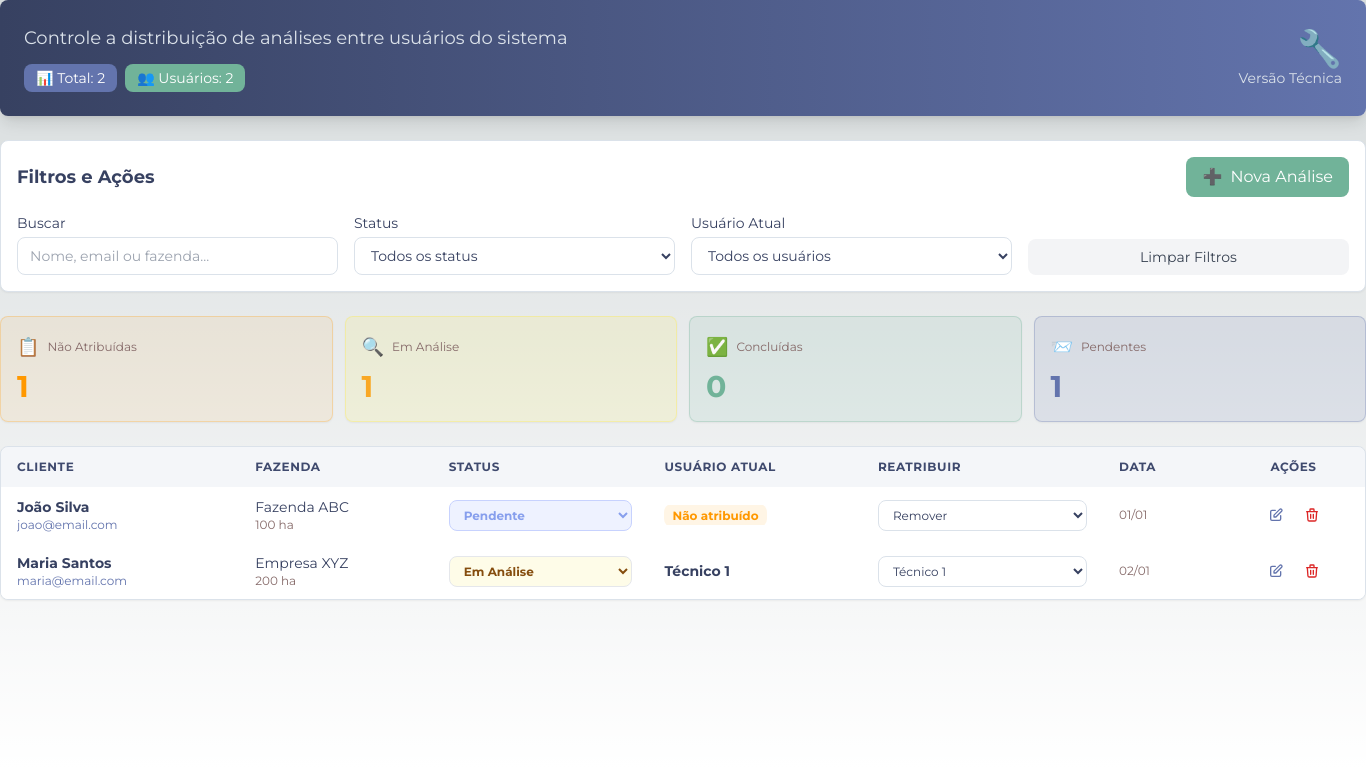
it: AnalisesTecnicasManager › deve filtrar análises por usuário
Select "Técnico 1" in the 2nd dropdown showing "Todos os usuários". click: [852, 256]
box: [691,237,1012,275]
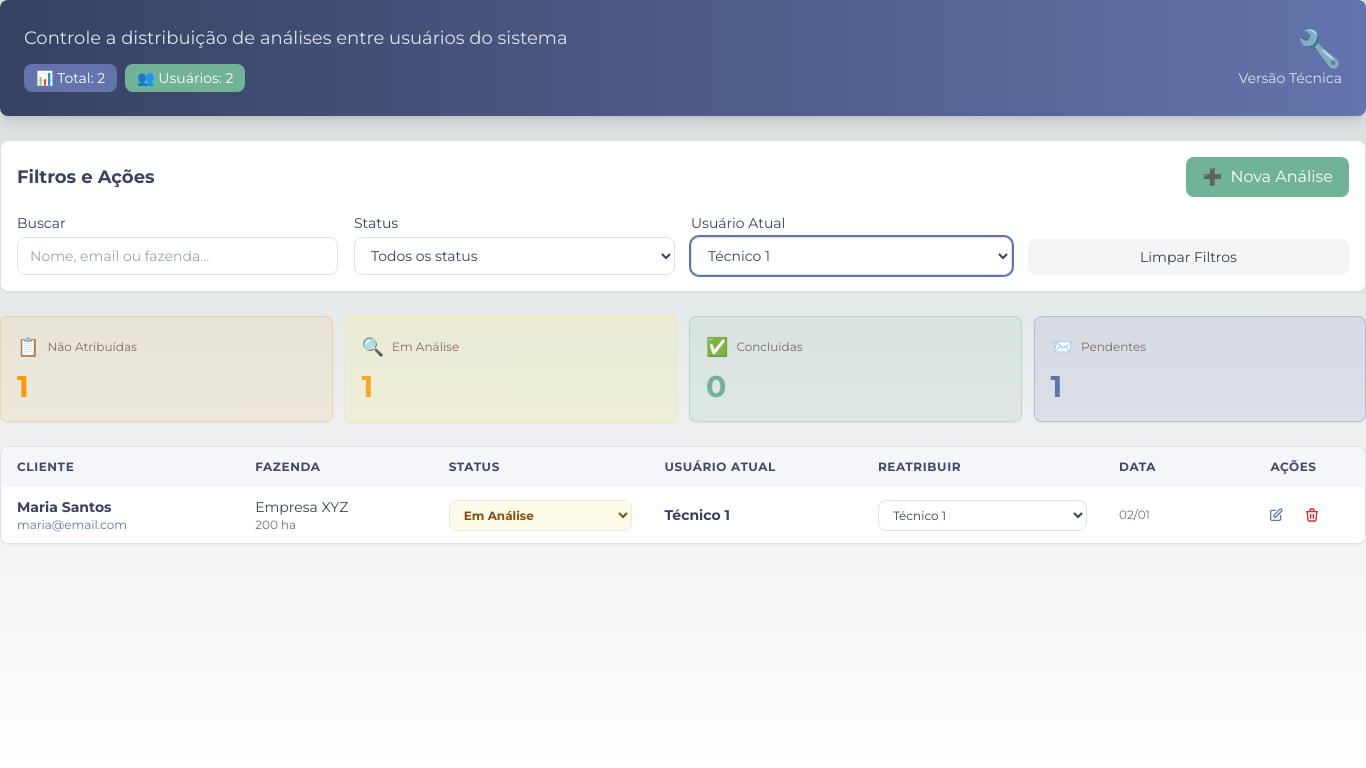
Expected: the text "João Silva" is gone
